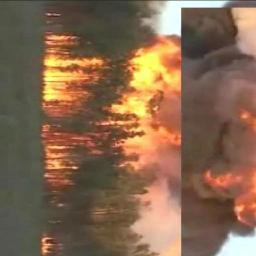Heavy smoke: (180, 8, 256, 250)
Large fire: (45, 11, 183, 229)
